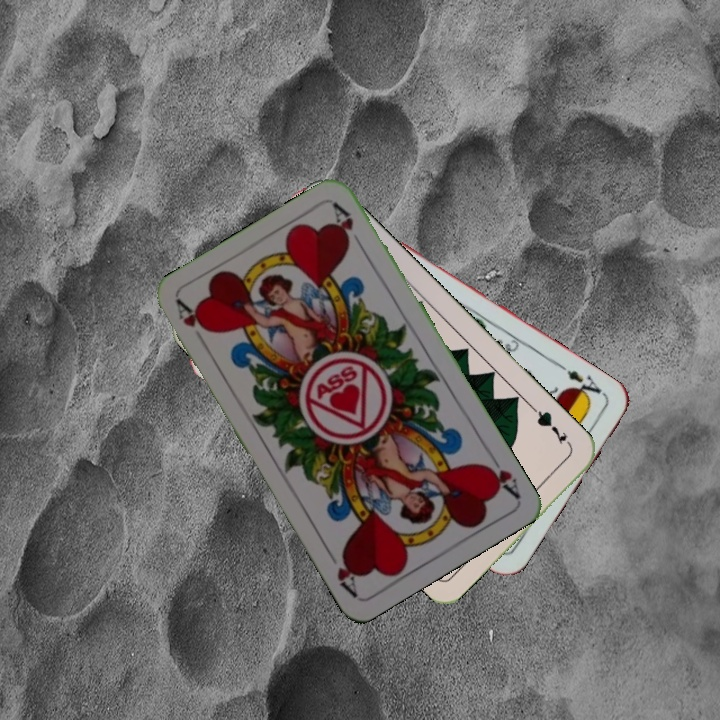EA: (562, 366, 608, 403)
G7: (529, 404, 575, 451)
HA: (478, 447, 522, 501), (172, 296, 212, 349)
